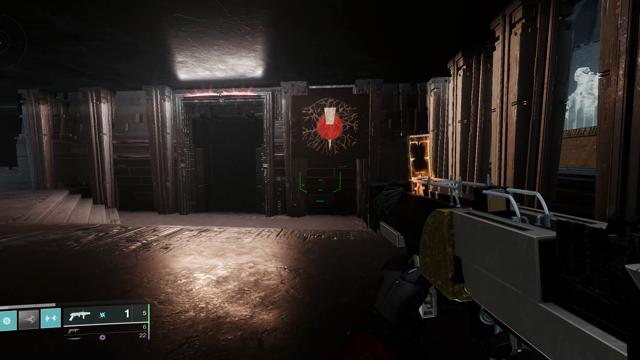kill: (301, 98, 358, 156)
